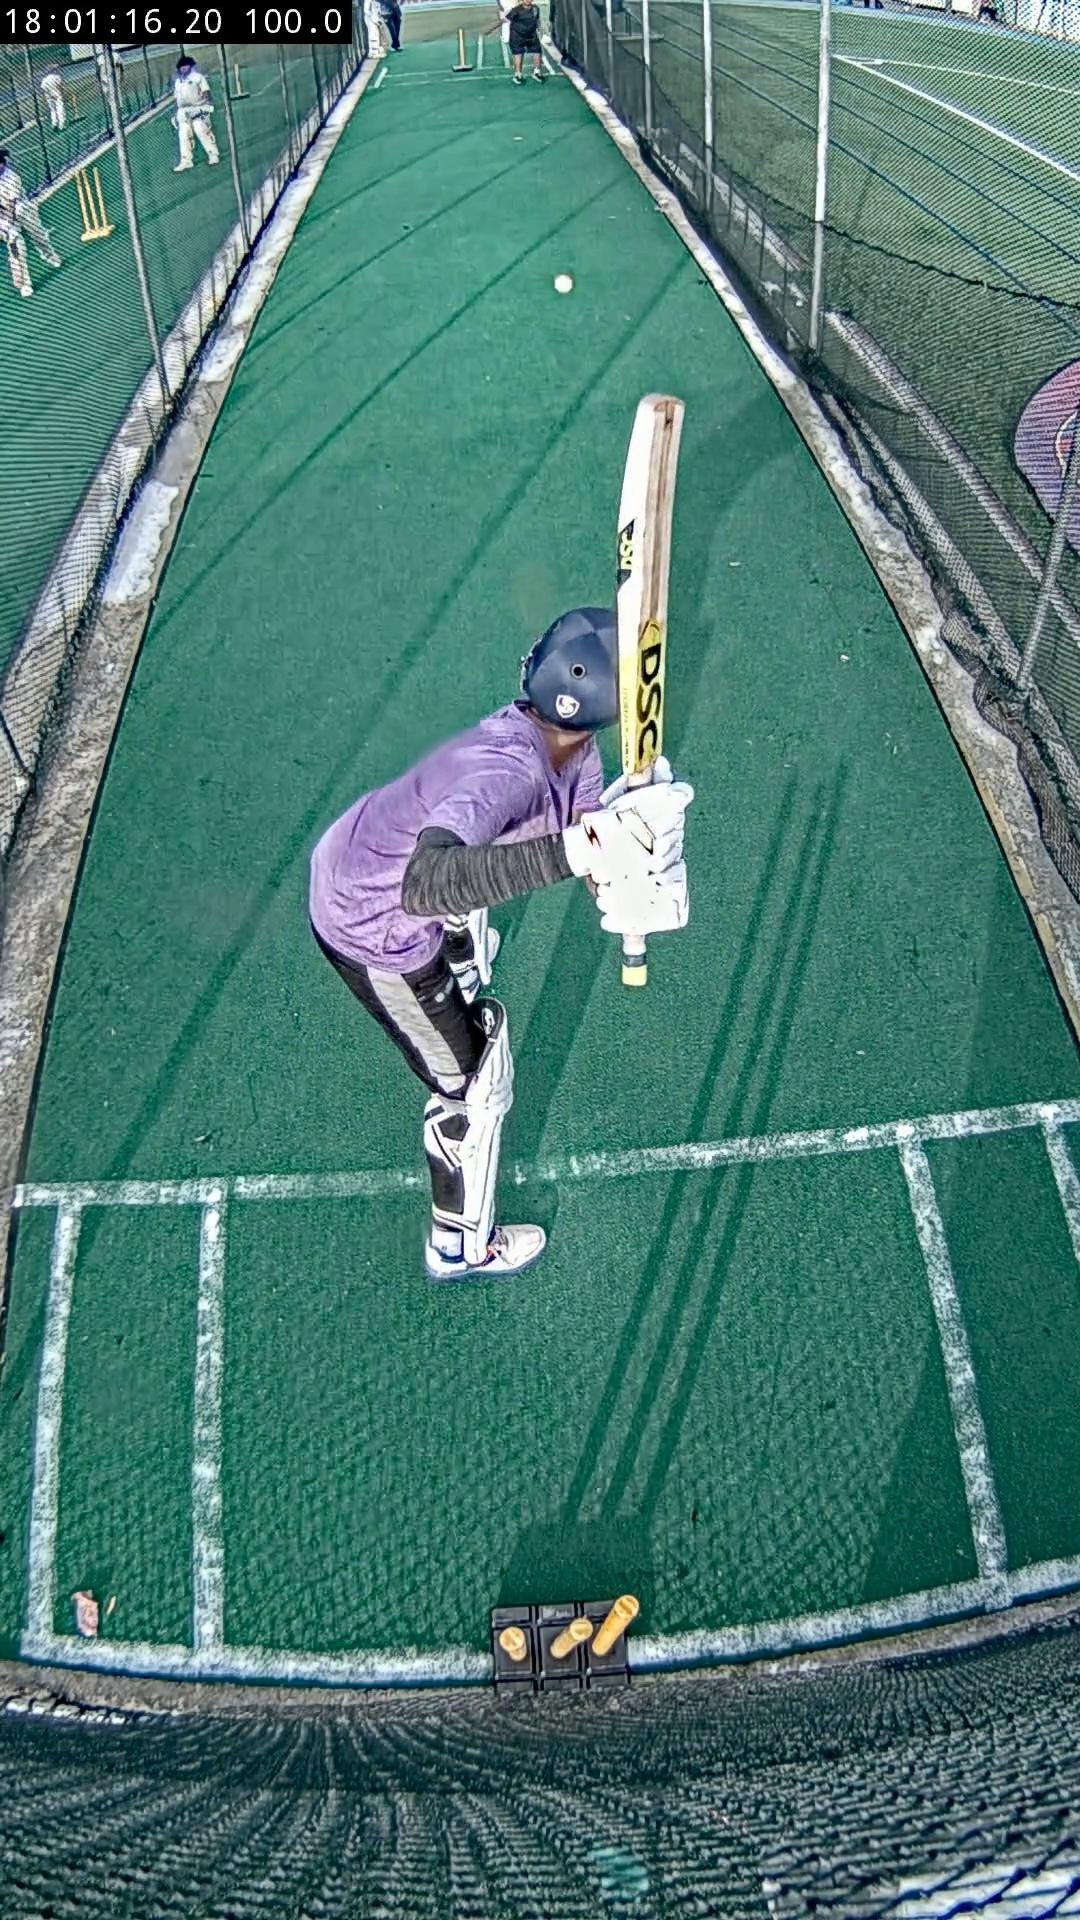ball: (555, 274, 574, 290)
bat: (615, 394, 683, 787), (622, 930, 649, 984)
gloves: (563, 783, 694, 936)
helmet: (521, 608, 618, 732)
pads: (454, 997, 514, 1263)
stumps: (492, 1594, 641, 1692)
